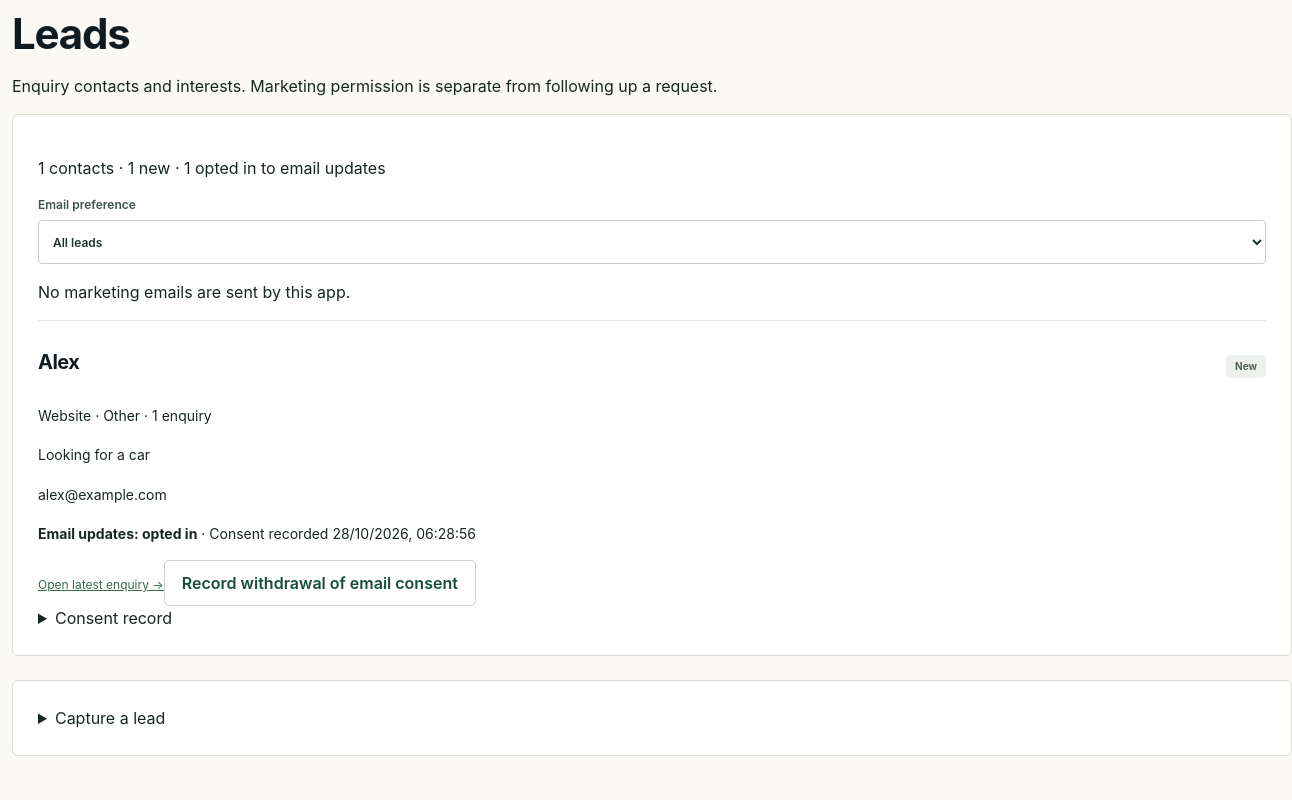
saved demo leads track explicit opt-in and withdrawal without business fetches
Expected: the heading "Alex" is shown, [38, 347, 80, 377]
Expected: the text "Email updates: opted in" is shown, [38, 525, 197, 542]
Click the button "Record withdrawal of email consent" at (320, 583), box [164, 560, 476, 606]
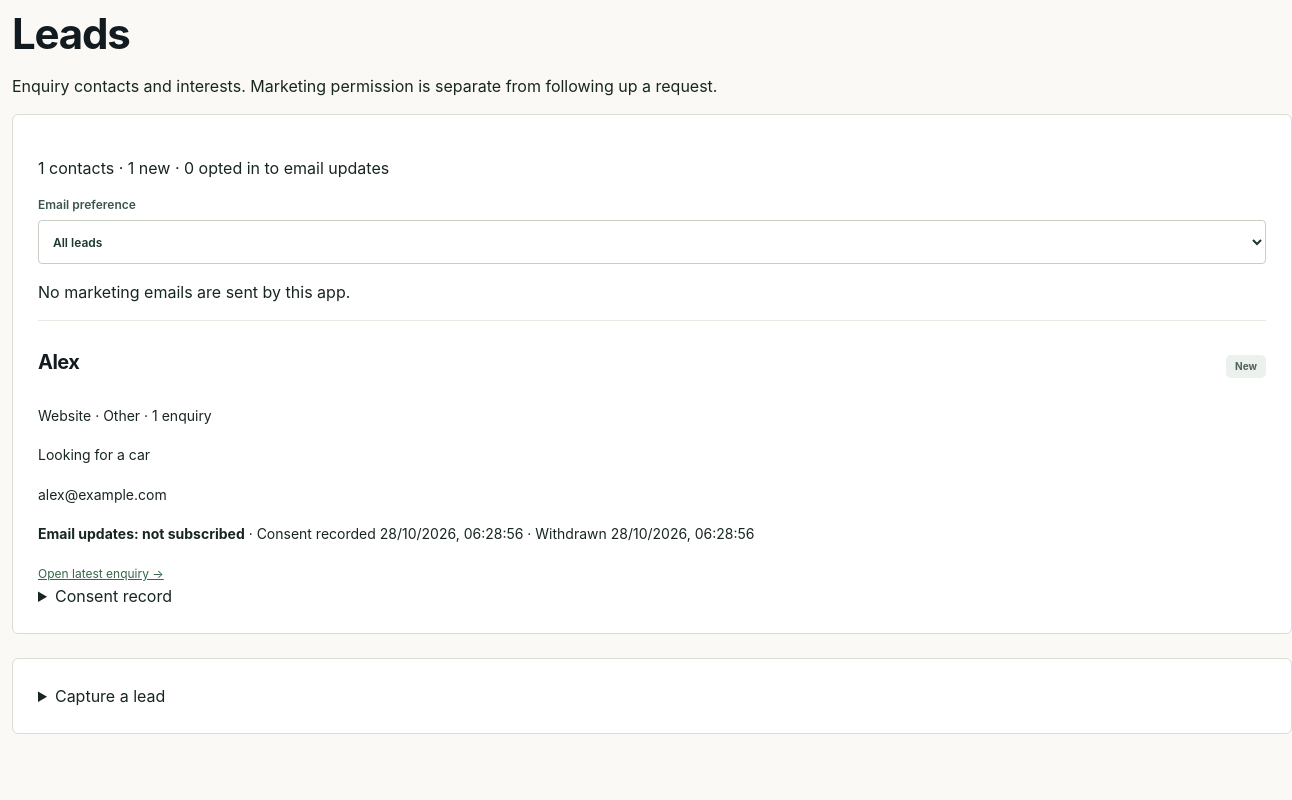
Now the text "Email updates: not subscribed" is shown, box [38, 525, 245, 542]
